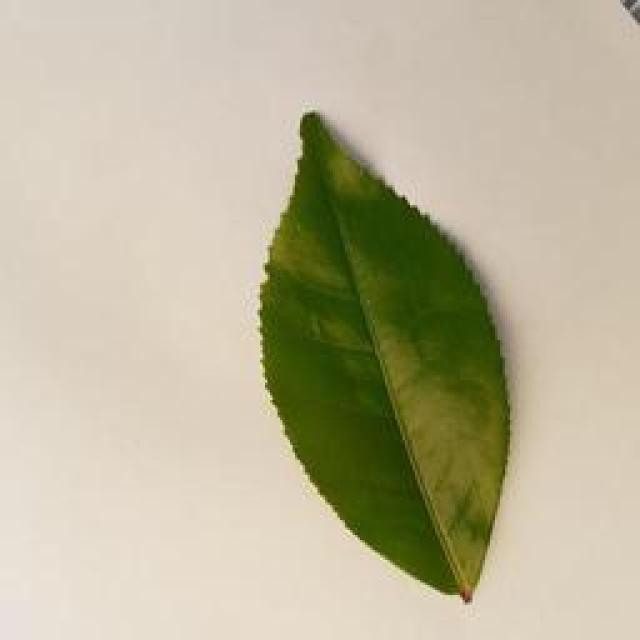Healthy: (247, 103, 523, 605)
